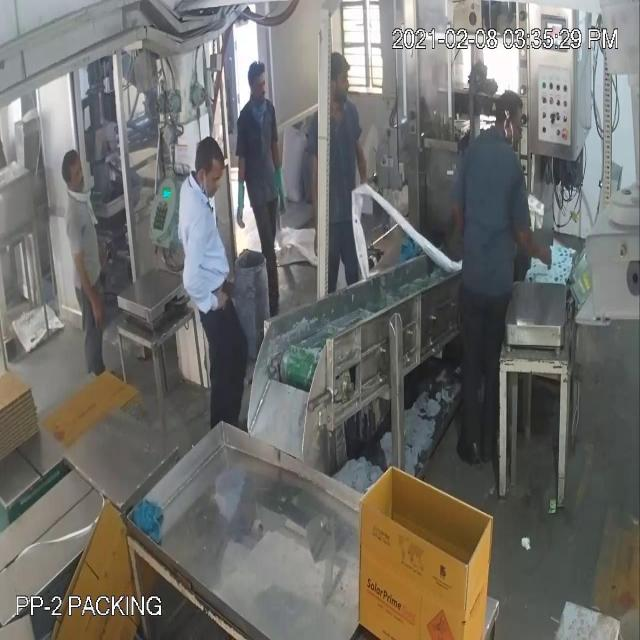No_Gloves: (15, 70, 532, 278)
